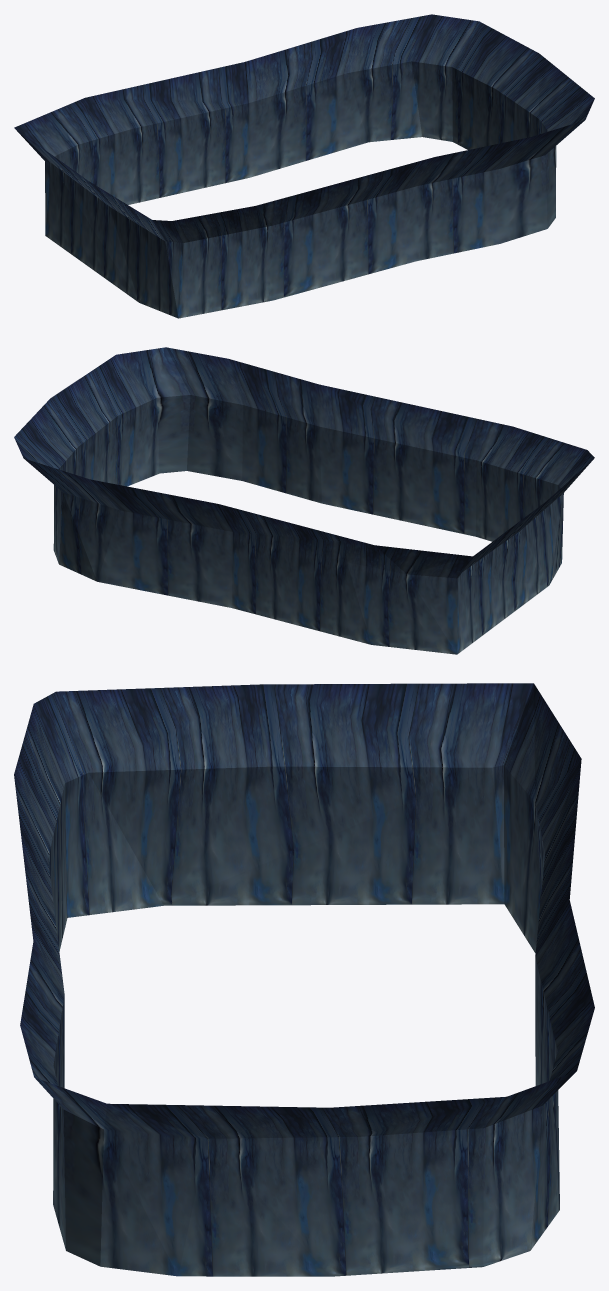
Rendered from CZPlat_1_Lat_2.gltf.
The picture shows the model from 3 angles, top to bottom: view 1: azimuth 30°, elevation 25°; view 2: azimuth 150°, elevation 25°; view 3: azimuth 270°, elevation 25°; orthographic projection. The views are drawn at different scales.
Visible parts, largest first — view 1: CZPlat_1_Lat_2; view 2: CZPlat_1_Lat_2; view 3: CZPlat_1_Lat_2.
Boxes of the visible parts, left/top/right/bottom form: CZPlat_1_Lat_2: left=14, top=14, right=594, bottom=318; CZPlat_1_Lat_2: left=14, top=347, right=594, bottom=654; CZPlat_1_Lat_2: left=14, top=683, right=594, bottom=1276.
Bounding box in the file's own units: 69.28 × 15.21 × 40.07.
Materials: 1 (1 with a texture image).
